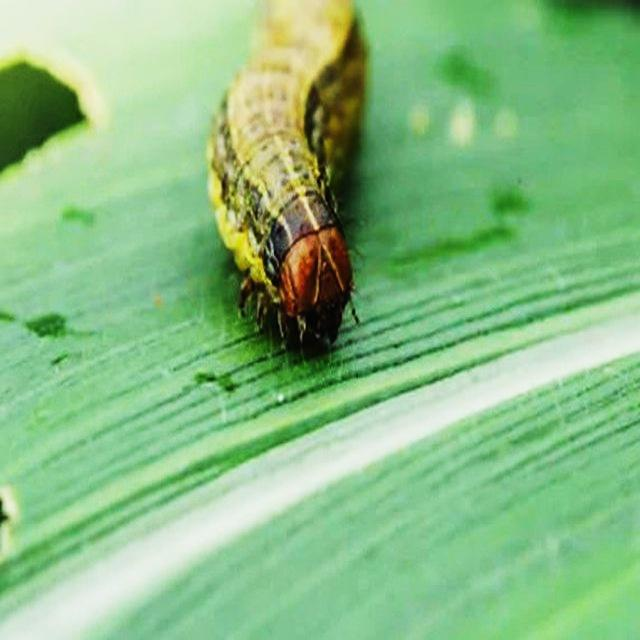worm: (205, 1, 369, 362)
